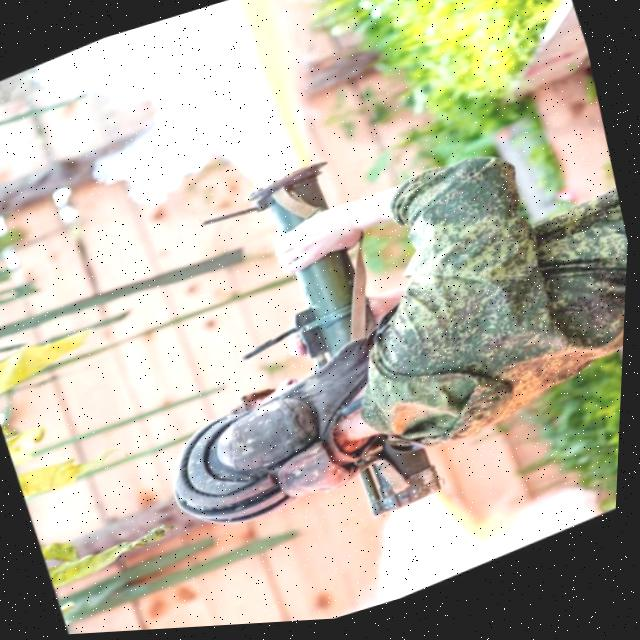rocket: (233, 140, 473, 550)
